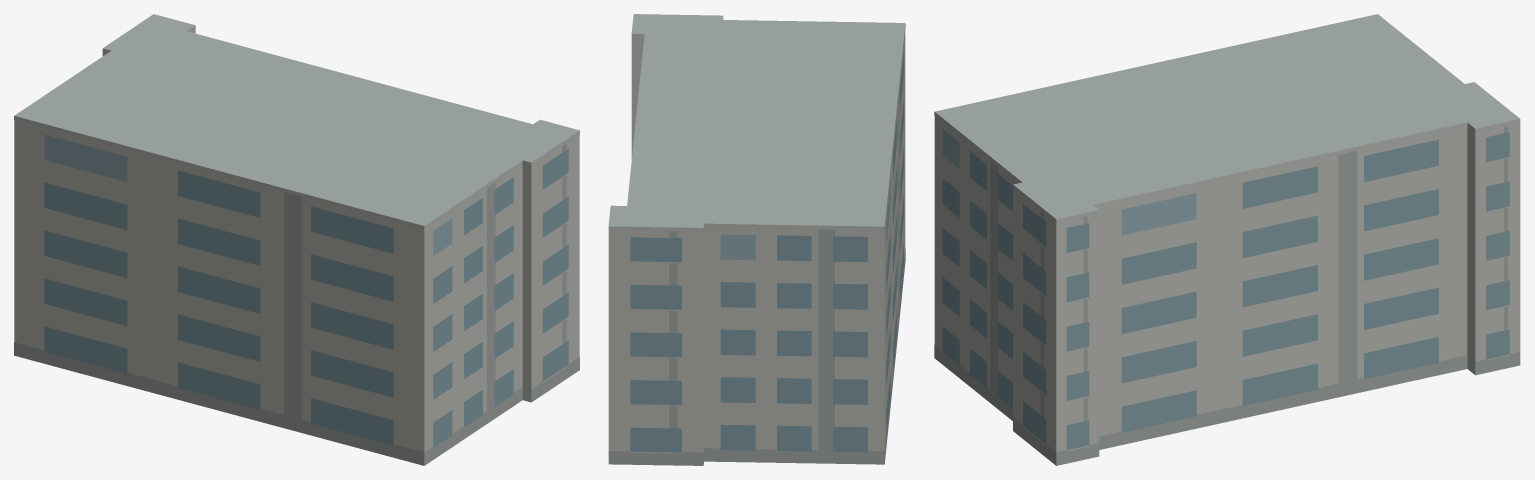
Rendered from survey-upis-32827263.glb.
The picture shows the model from 3 angles, left to right: view 1: azimuth 30°, elevation 25°; view 2: azimuth 150°, elevation 25°; view 3: azimuth 270°, elevation 25°; orthographic projection. The views are drawn at different scales.
Visible parts, largest first — view 1: survey-upis-32827263.tmp; view 2: survey-upis-32827263.tmp; view 3: survey-upis-32827263.tmp.
Part boxes in pixels (box(x1,y1,x2,y2)): survey-upis-32827263.tmp: box(14, 14, 579, 465); survey-upis-32827263.tmp: box(608, 14, 905, 465); survey-upis-32827263.tmp: box(934, 14, 1520, 465).
Bounding box in the file's own units: 27.25 × 15.25 × 32.85.
